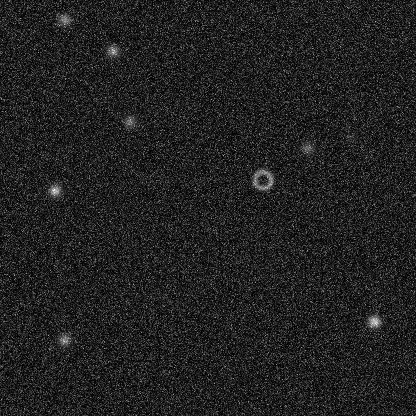Ring: (250, 167, 274, 191)
Spot: (56, 331, 72, 347), (299, 139, 315, 155), (366, 313, 382, 329), (46, 182, 62, 198), (104, 43, 120, 59), (56, 11, 72, 27), (121, 113, 137, 129), (341, 128, 357, 144)
